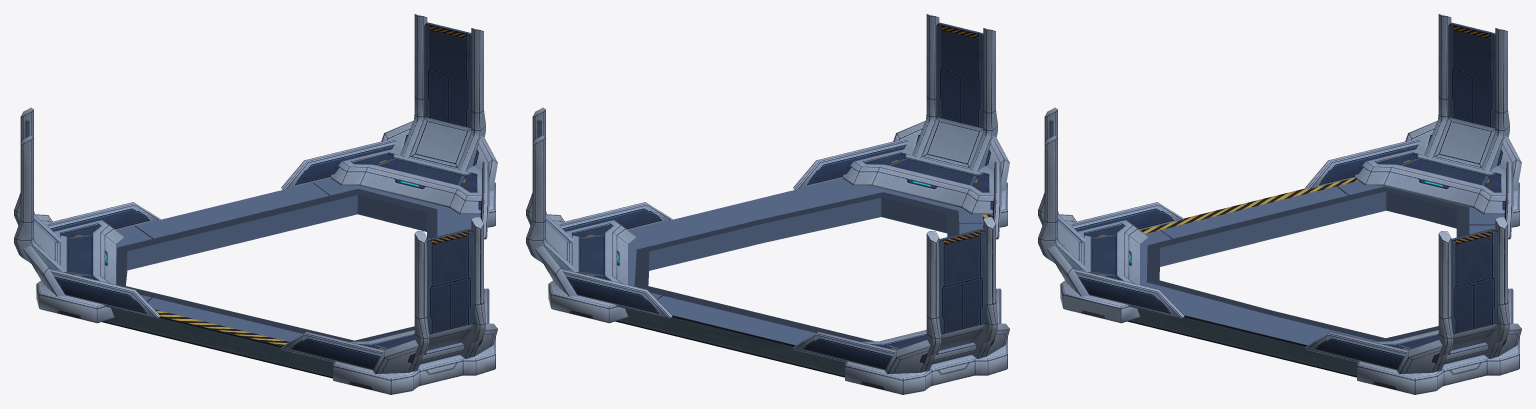
File: Scece_01_pingta03.FBX
3 views of the same model, side by side, from view 1: azimuth 30°, elevation 25°; view 2: azimuth 150°, elevation 25°; view 3: azimuth 270°, elevation 25° (orthographic).
Parts seen in each view (by area): view 1: Scece_01_pingta03; view 2: Scece_01_pingta03; view 3: Scece_01_pingta03.
Boxes of the visible parts, left/top/right/bottom form: Scece_01_pingta03: left=14, top=14, right=497, bottom=394; Scece_01_pingta03: left=526, top=14, right=1009, bottom=394; Scece_01_pingta03: left=1038, top=14, right=1521, bottom=394.
Size of the model in its own units: 25.56 by 8.78 by 22.77.
Materials: 3 (3 with a texture image).
